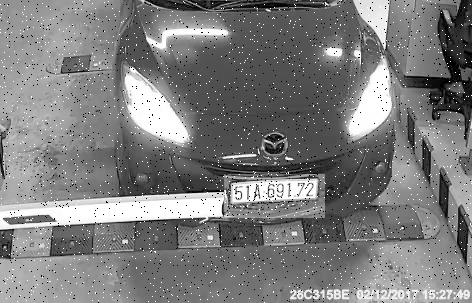License-plate: (225, 176, 326, 221)
